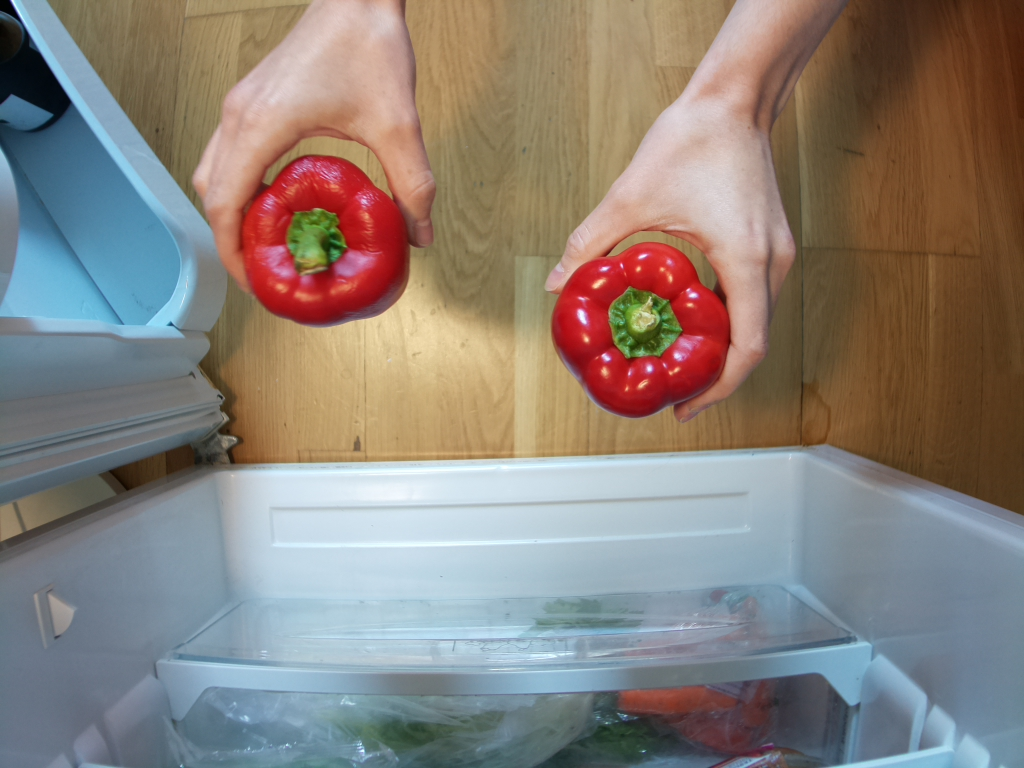pepper: (551, 241, 730, 420)
pepper-bad: (240, 153, 413, 328)
